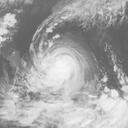cyclone: (25, 41, 88, 101)
